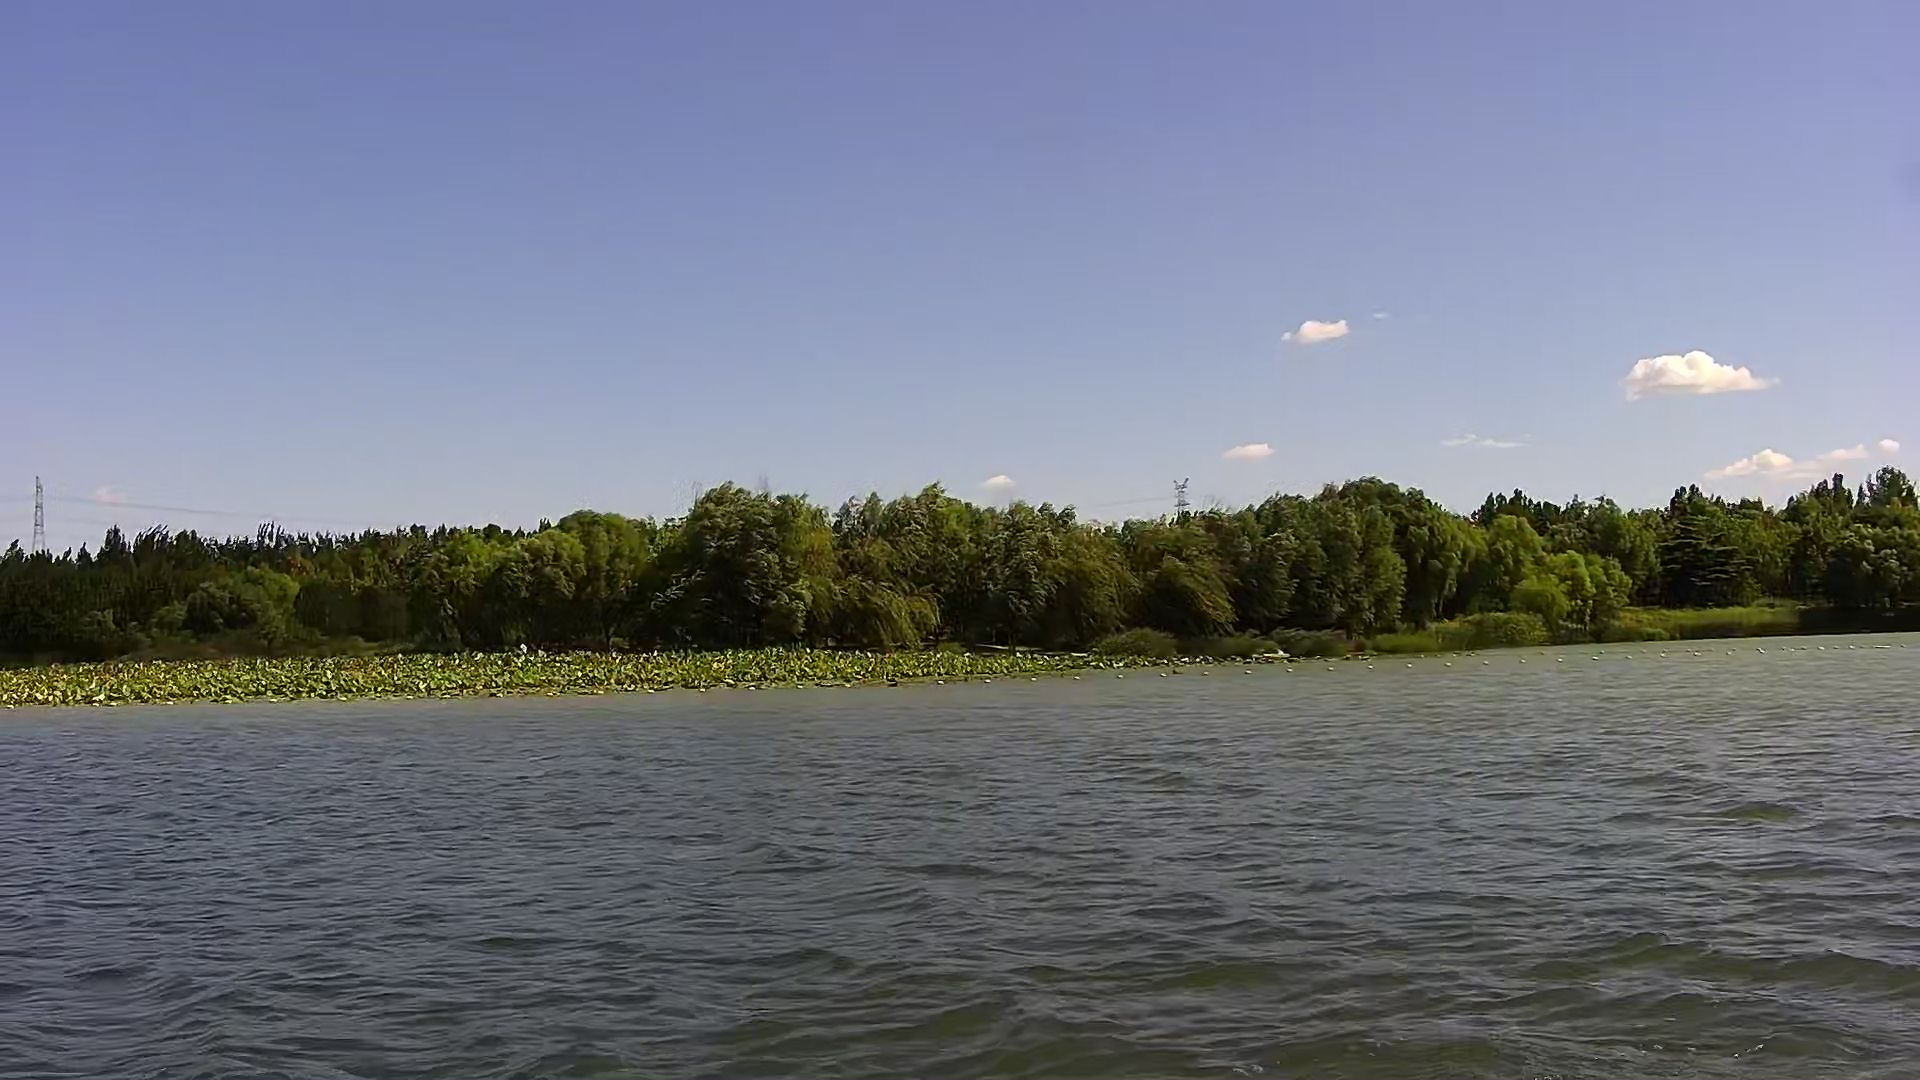grass: (4, 653, 1145, 709)
